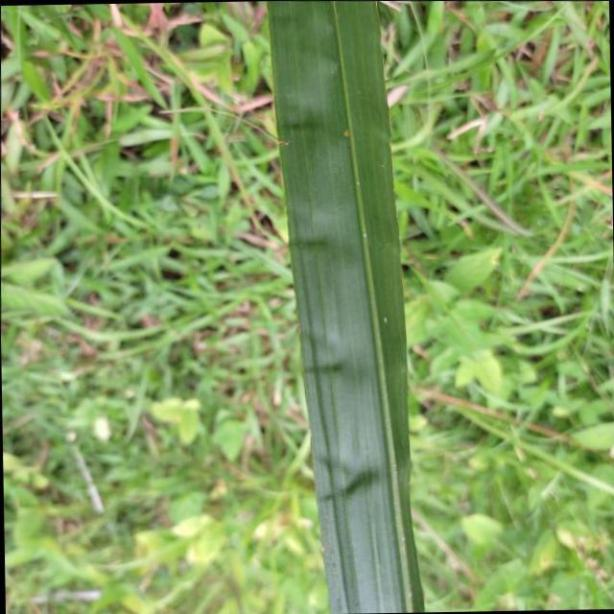Boron: (270, 0, 424, 614)
